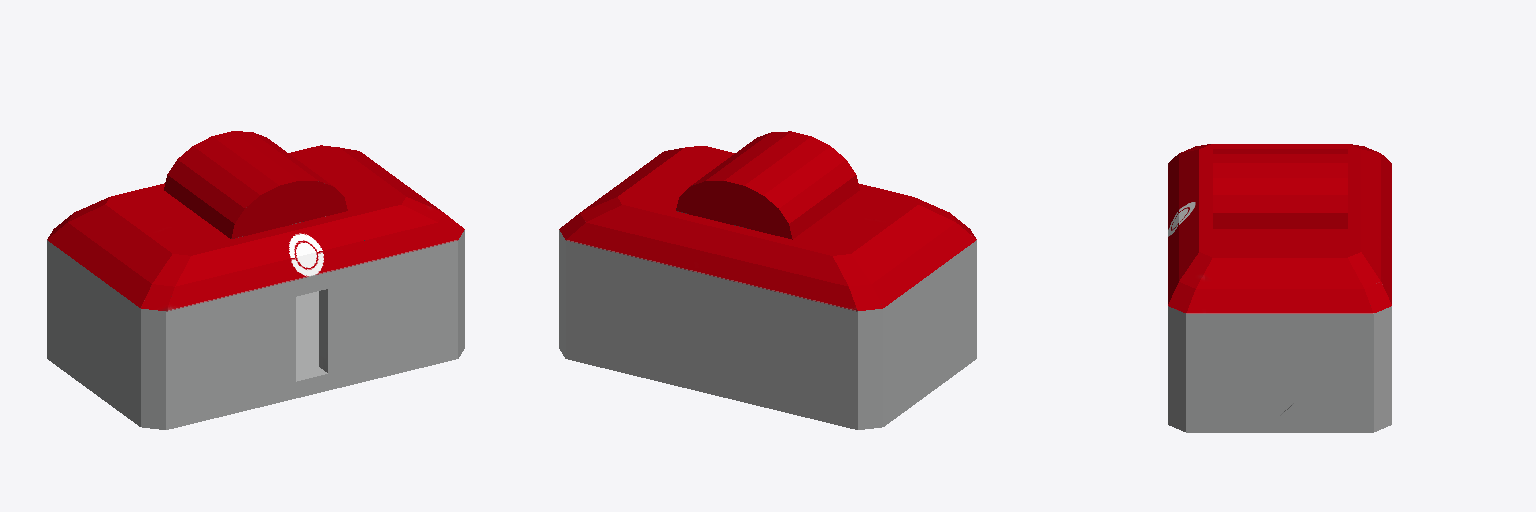
3 renders of one model, left to right at view 1: azimuth 30°, elevation 25°; view 2: azimuth 150°, elevation 25°; view 3: azimuth 270°, elevation 25°, orthographic.
Visible parts, largest first — view 1: Plane; view 2: Plane; view 3: Plane.
Part boxes in pixels (bbox=[...]): Plane: bbox=[47, 131, 464, 429]; Plane: bbox=[559, 131, 976, 429]; Plane: bbox=[1168, 144, 1391, 432].
Size of the model in its own units: 2 by 1.15 by 1.2.
1 materials, 1 textured.